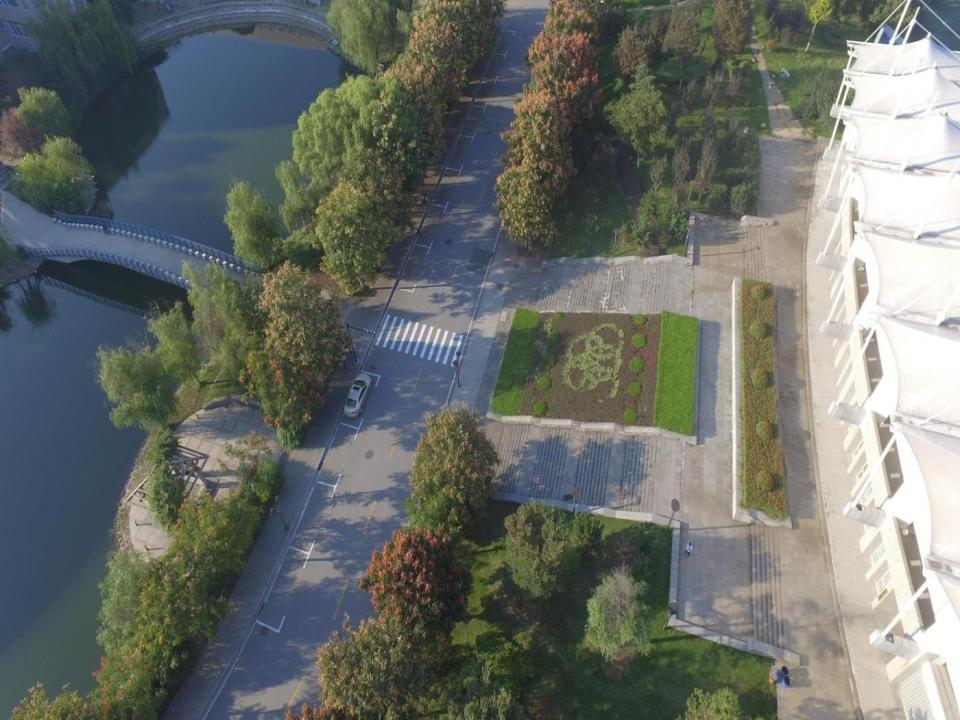car: (344, 372, 372, 417)
